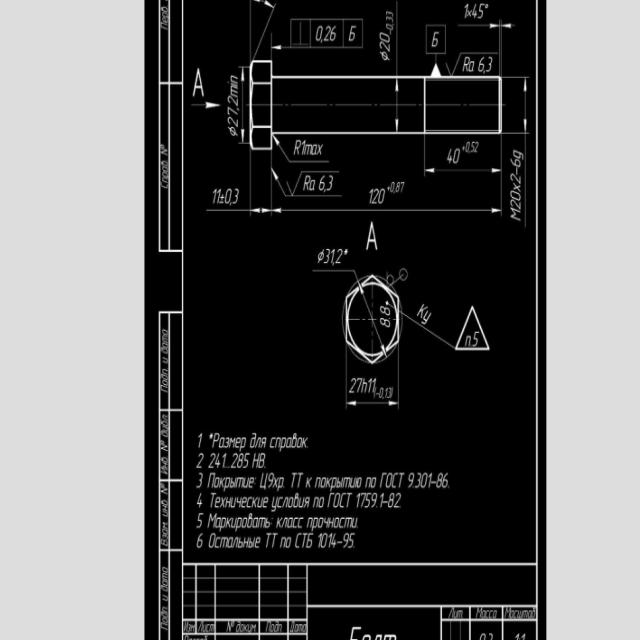marking_line: (273, 136, 503, 216), (424, 136, 500, 176), (345, 364, 398, 408), (244, 2, 278, 59), (503, 76, 530, 133), (238, 65, 250, 146), (272, 137, 293, 164), (272, 168, 288, 198), (394, 80, 399, 131), (191, 102, 221, 110), (460, 24, 500, 29), (250, 206, 269, 215), (270, 44, 292, 51), (335, 248, 344, 265), (501, 22, 516, 29), (325, 248, 331, 264), (330, 248, 335, 263)
numeric: (192, 65, 207, 97), (366, 221, 378, 252), (430, 29, 440, 48), (509, 207, 522, 221), (417, 303, 428, 319), (421, 312, 433, 326), (303, 174, 312, 192), (509, 190, 523, 201), (224, 187, 233, 204), (348, 377, 357, 394), (315, 26, 324, 42), (477, 3, 485, 20), (361, 378, 370, 393), (227, 115, 238, 127), (227, 106, 239, 117), (513, 148, 524, 160), (227, 95, 240, 105), (472, 330, 480, 346), (349, 25, 356, 43), (380, 31, 391, 42), (509, 199, 521, 209), (230, 84, 239, 97), (379, 43, 392, 52), (327, 174, 333, 193), (324, 26, 331, 42), (330, 25, 337, 41), (463, 57, 470, 73), (486, 58, 494, 72), (319, 175, 326, 191), (293, 139, 300, 155), (510, 159, 521, 169), (510, 174, 521, 184), (233, 187, 239, 205), (379, 306, 391, 315), (452, 149, 459, 164), (379, 187, 385, 204), (380, 318, 390, 328), (305, 142, 312, 156), (446, 148, 452, 164), (230, 75, 239, 85), (216, 189, 222, 204), (478, 56, 484, 71), (357, 376, 362, 393), (465, 334, 472, 346), (469, 61, 476, 73), (212, 188, 217, 203), (386, 23, 395, 31), (465, 140, 471, 152), (311, 144, 317, 156), (473, 4, 478, 18), (474, 140, 479, 153), (464, 4, 468, 20), (368, 188, 372, 204), (373, 188, 377, 204), (301, 139, 305, 155), (368, 378, 372, 393), (379, 387, 384, 399), (317, 143, 322, 155), (386, 11, 395, 17), (388, 385, 392, 398), (386, 17, 394, 23), (396, 182, 400, 193), (400, 181, 404, 192), (372, 377, 375, 391), (231, 83, 239, 88), (385, 386, 388, 399), (391, 181, 394, 193), (471, 140, 474, 152)
special_symbol: (455, 306, 494, 354), (444, 52, 465, 74), (398, 265, 410, 283), (385, 270, 396, 289), (378, 49, 391, 62), (286, 180, 298, 194), (317, 247, 326, 265), (228, 126, 237, 139), (511, 182, 521, 191), (342, 247, 348, 255), (467, 10, 472, 17), (333, 260, 337, 267), (462, 145, 466, 152), (514, 167, 518, 174), (386, 185, 390, 191), (392, 22, 394, 26)
